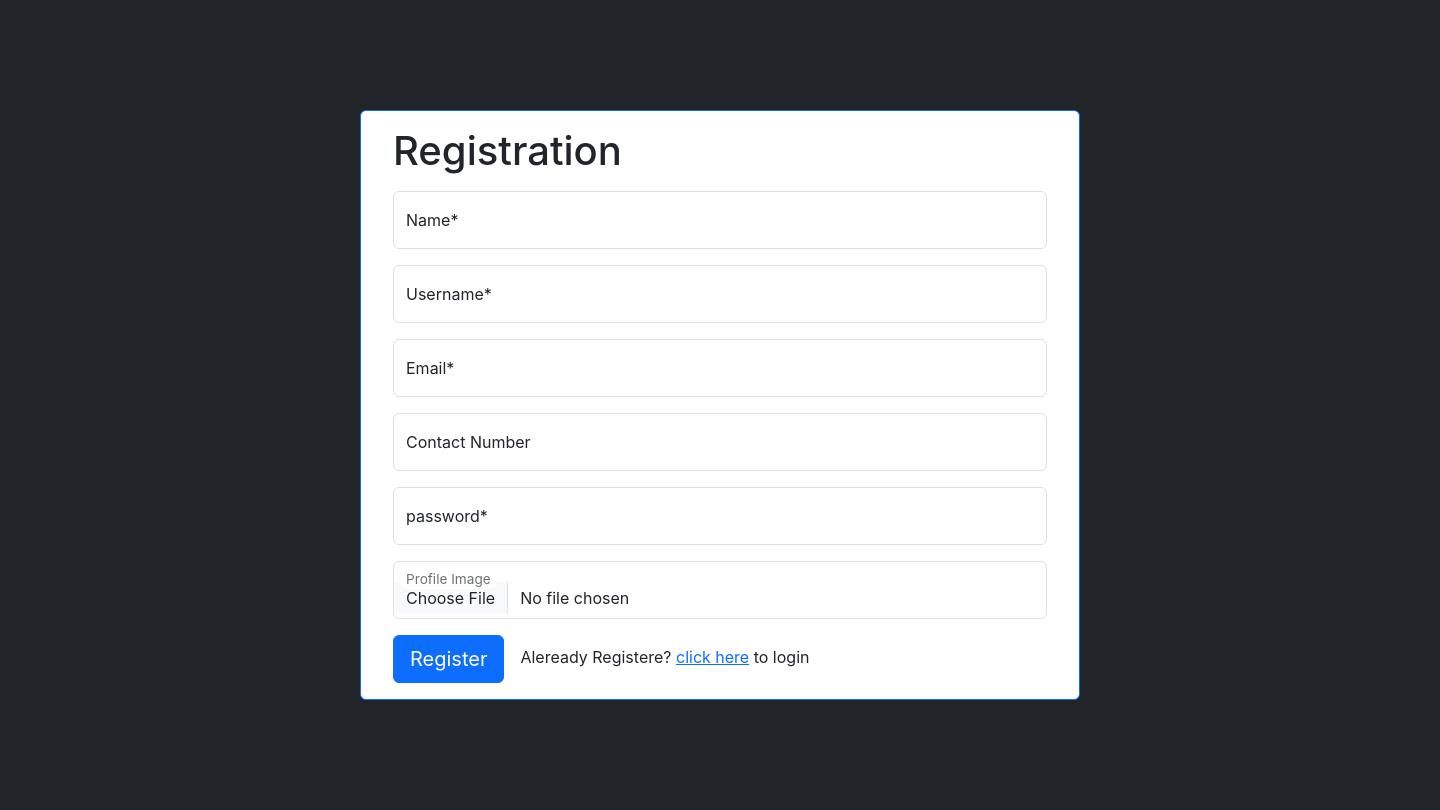
signup component is rendered correctly › showing invalid name error if user enters numbers
The image size is (1440, 810).
Type "Shiva1223" into the field with placeholder "Enter name" at (720, 220), box [393,191,1047,249]
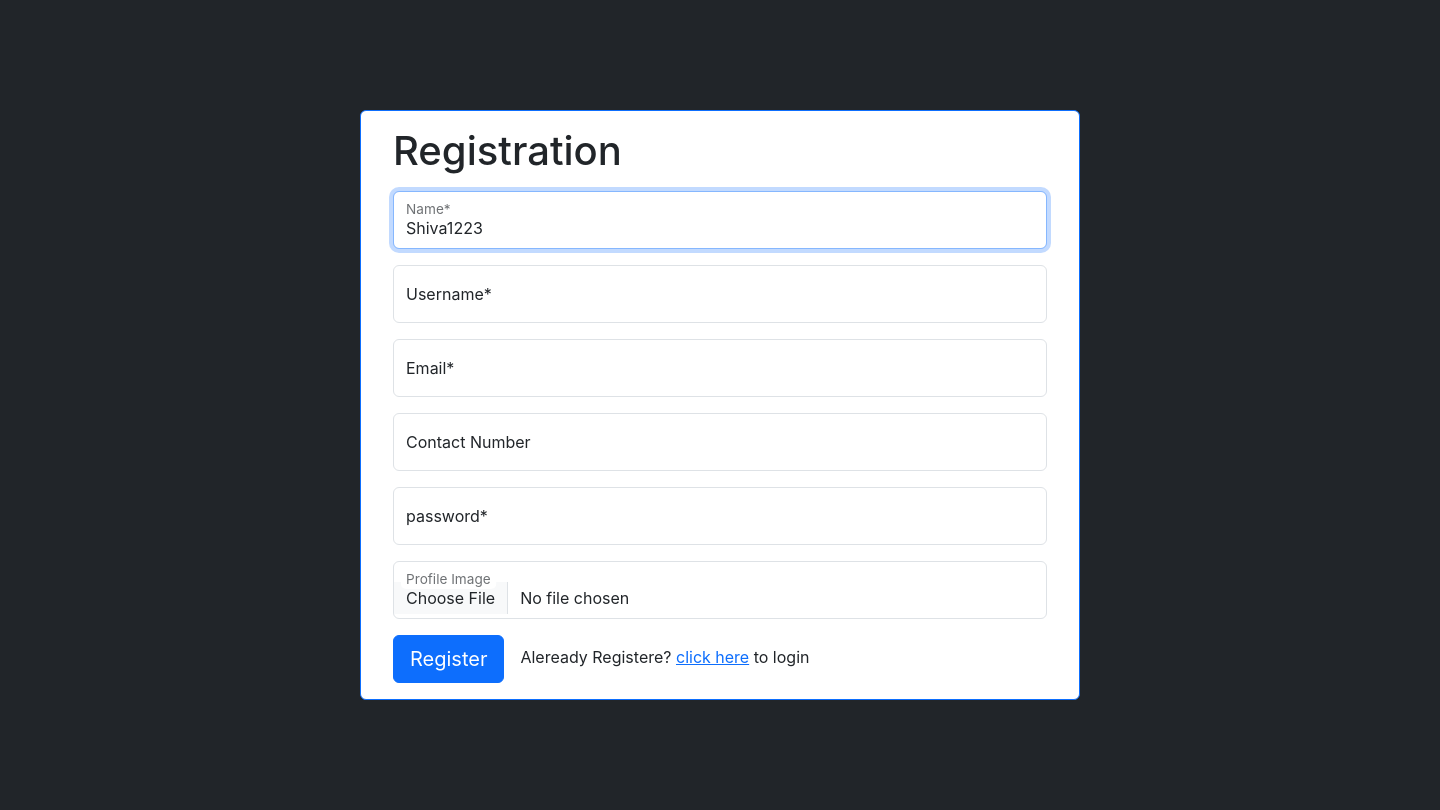
Click the element that starts with "Registration" at (720, 405), box [0,0,1439,809]
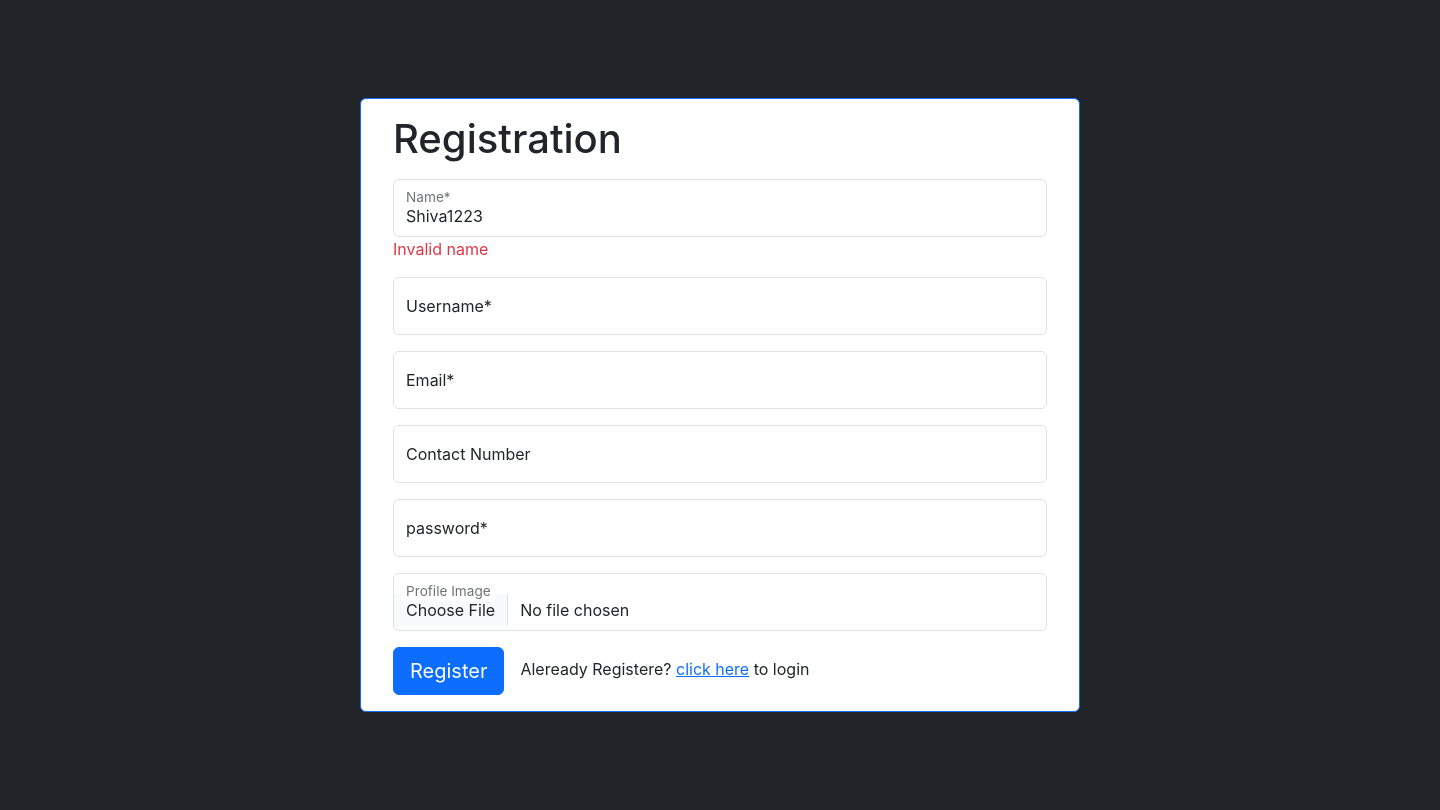
Expected: the text "Invalid name" is shown, [393,239,488,259]
